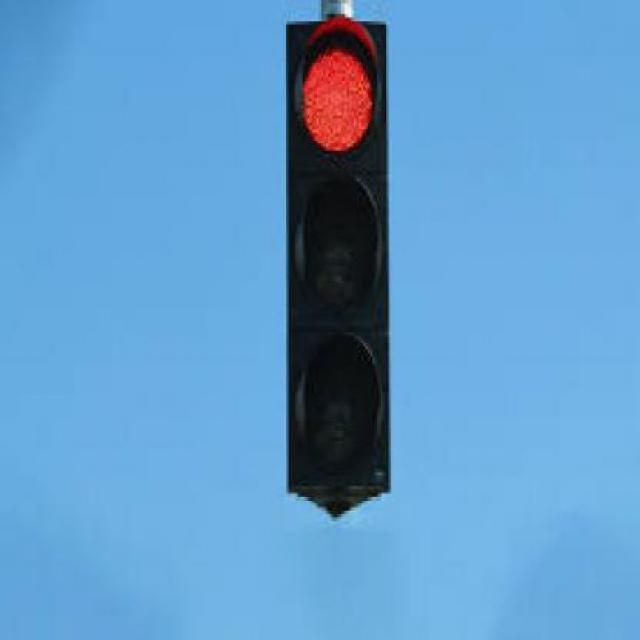traffic light: (286, 17, 391, 519)
